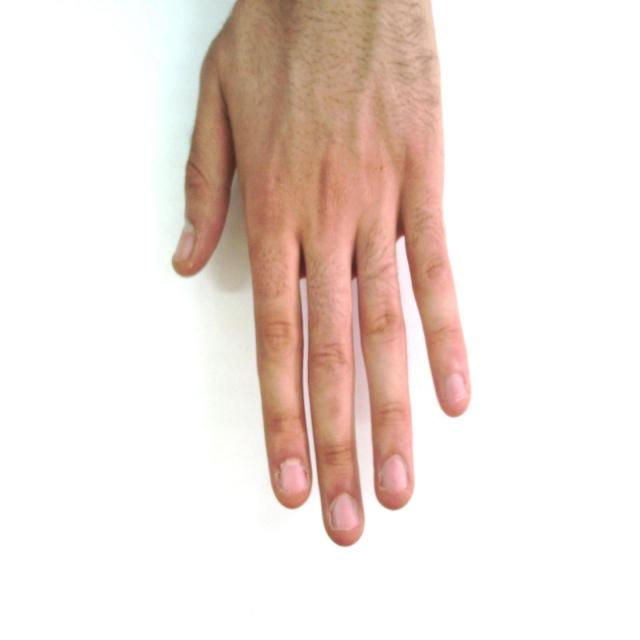others: (157, 0, 500, 578)
